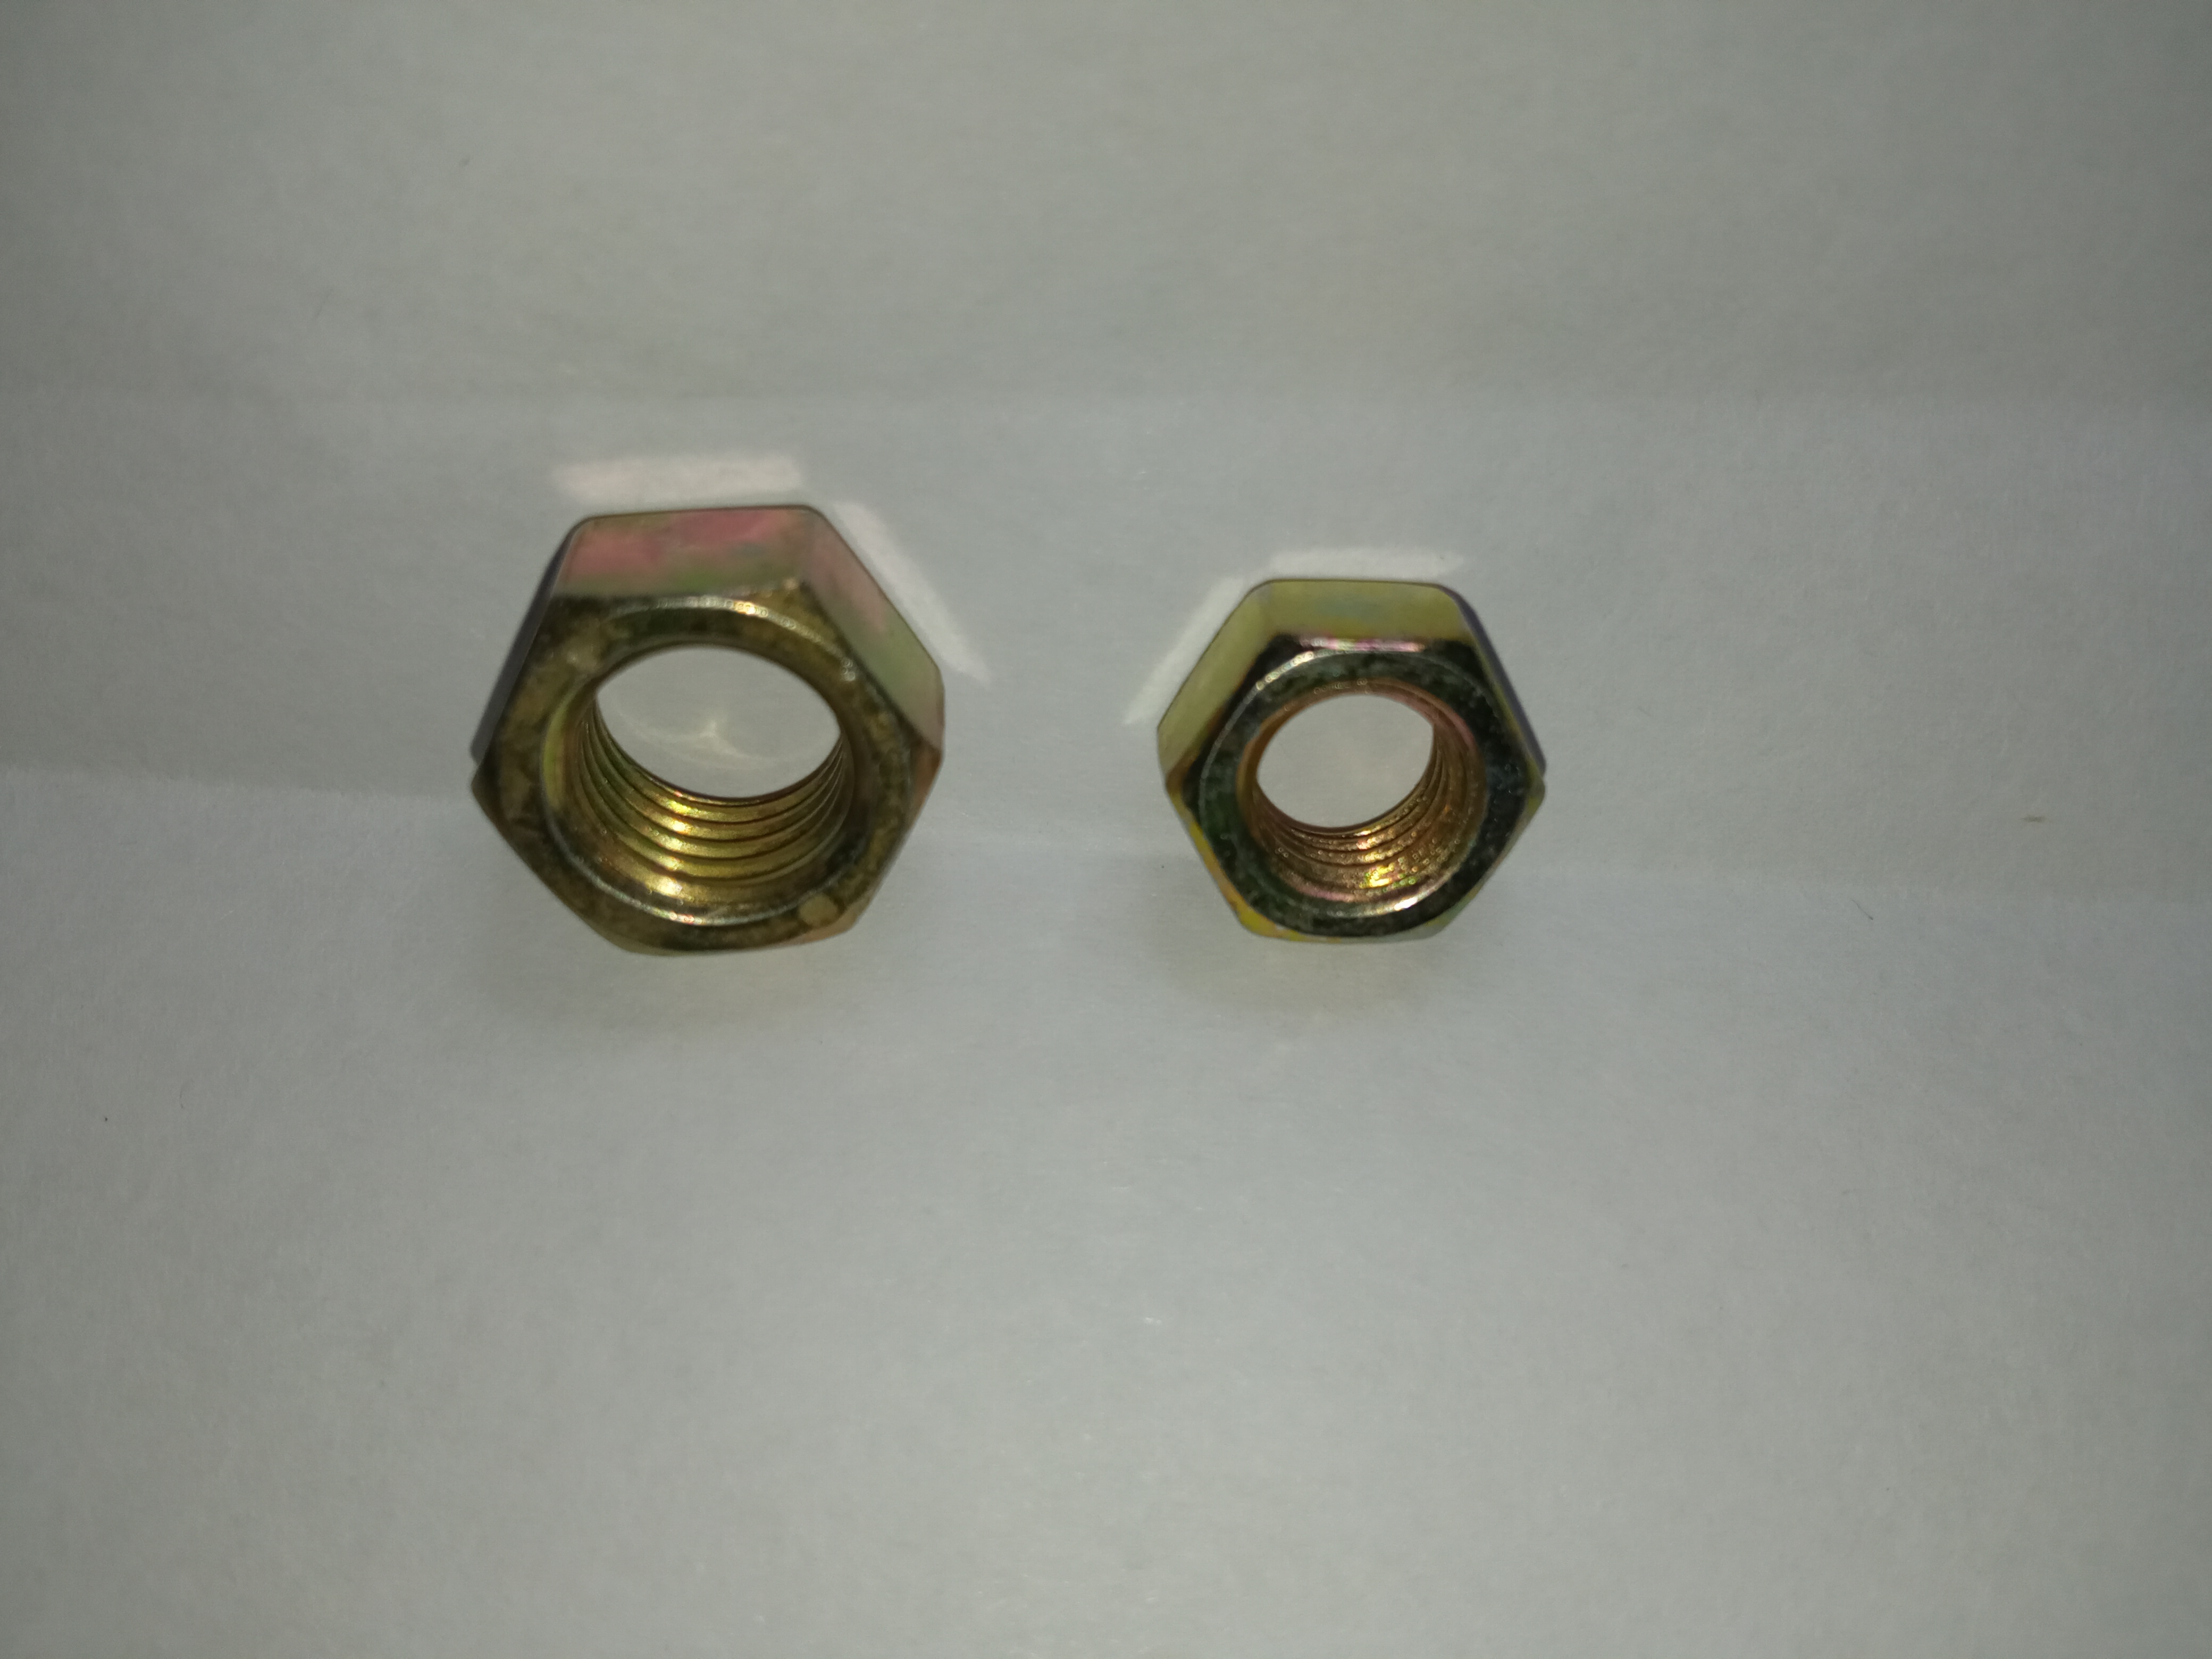m10: (481, 504, 927, 939)
m8: (1172, 580, 1533, 939)
